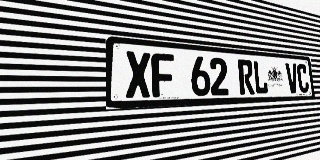2: (209, 57, 229, 96)
6: (190, 56, 211, 96)
C: (296, 64, 309, 93)
F: (151, 53, 175, 97)
L: (252, 60, 268, 94)
R: (238, 59, 255, 95)
V: (285, 63, 299, 93)
X: (125, 51, 152, 98)
